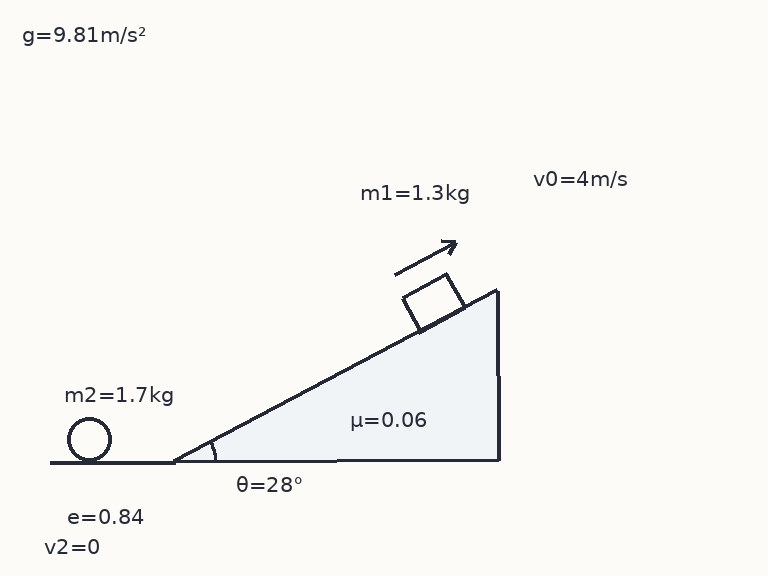ball: (65, 415, 113, 463)
block: (400, 272, 466, 333)
ramp: (173, 288, 499, 463)
